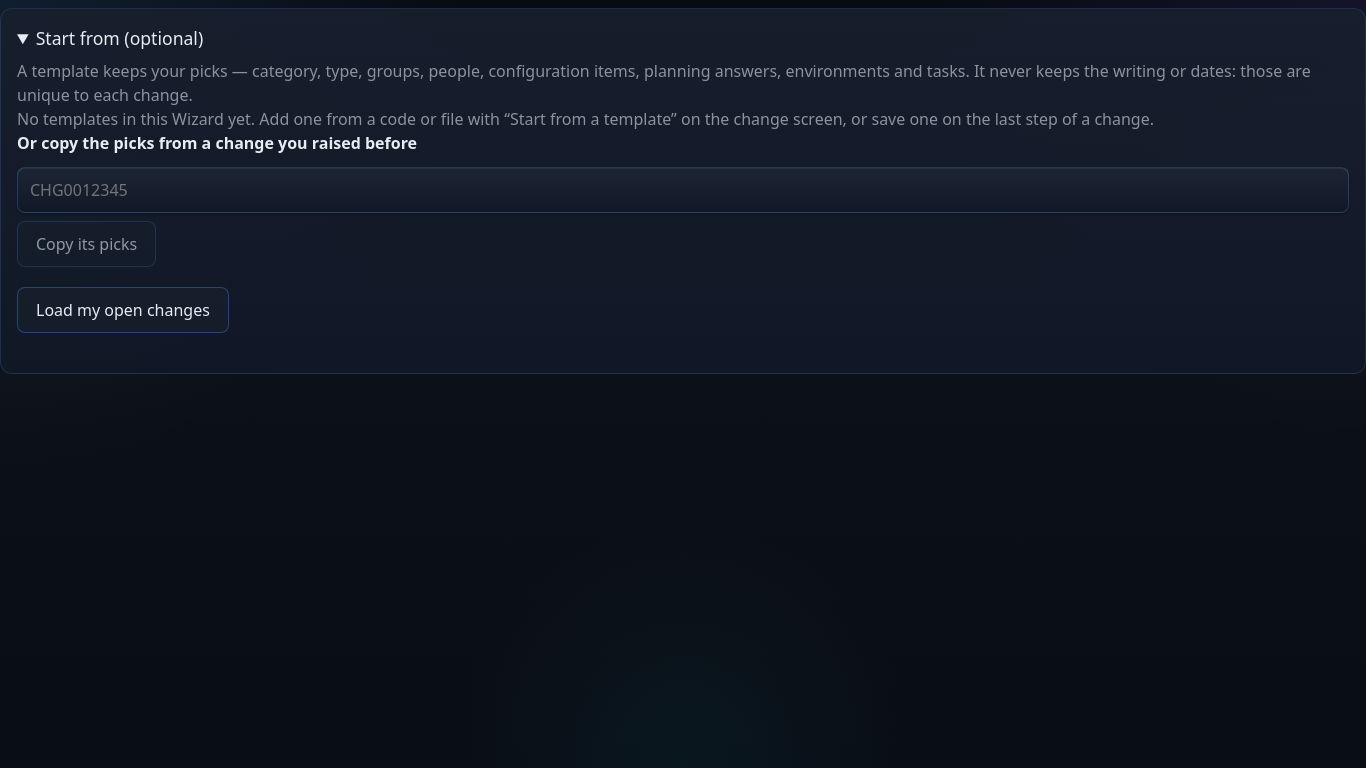
Test: StartFromCard › copies the picks as soon as one of my open changes is picked
This screenshot has width=1366, height=768.
Step 1. Click the button "Load my open changes" → click(123, 310), box [17,287,229,333]
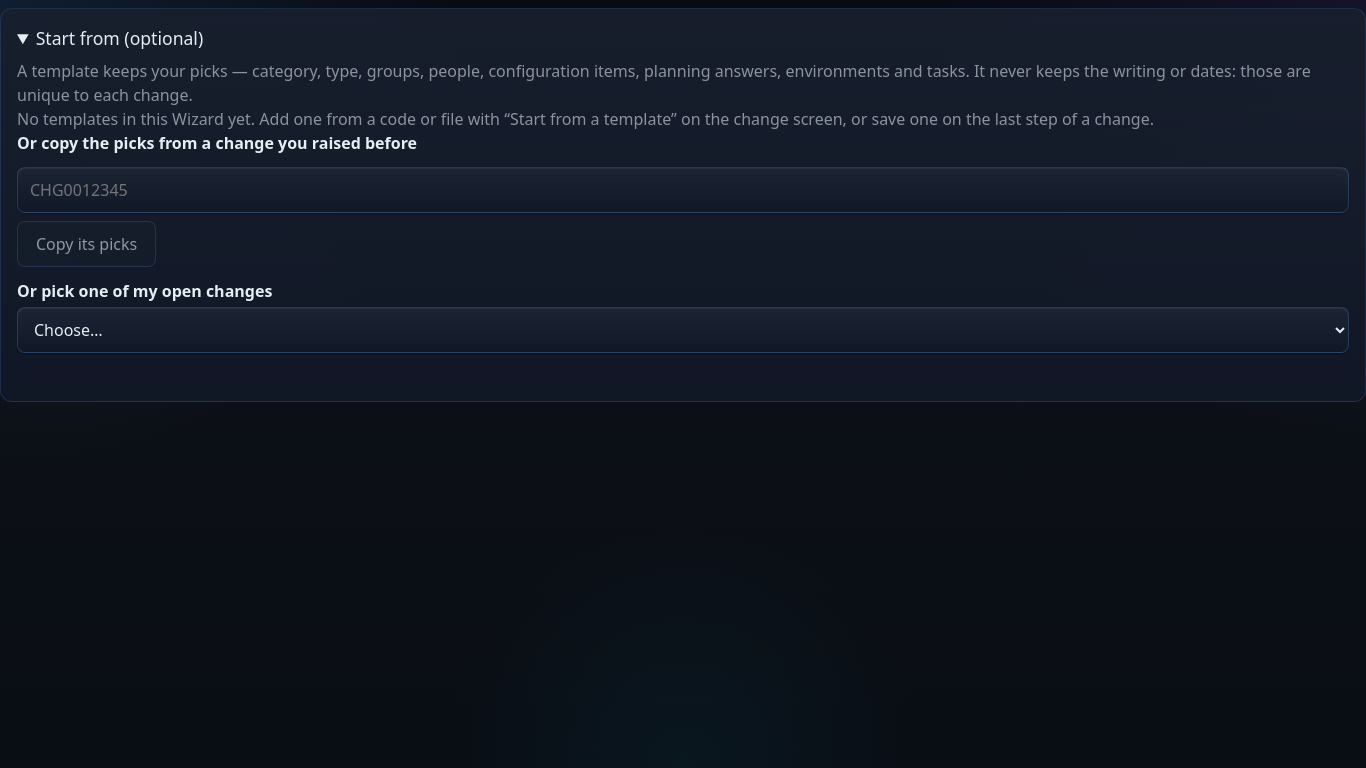
Step 2. Select "CHG0001234 — Old title" in the dropdown labelled "Or pick one of my open changes" → (683, 330), box [17,307,1349,353]
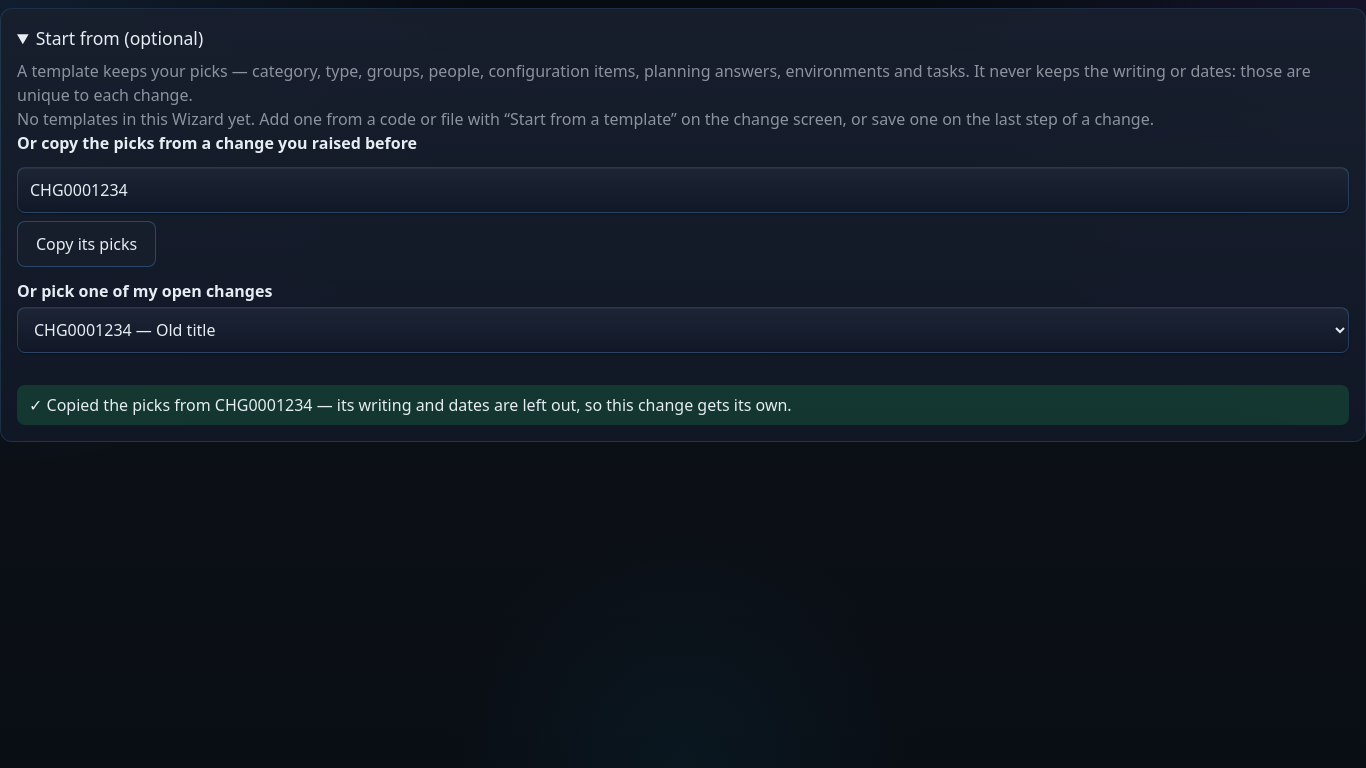
Result: the text "✓ Copied the picks from CHG0001234" is shown at [29,394,792,416]
